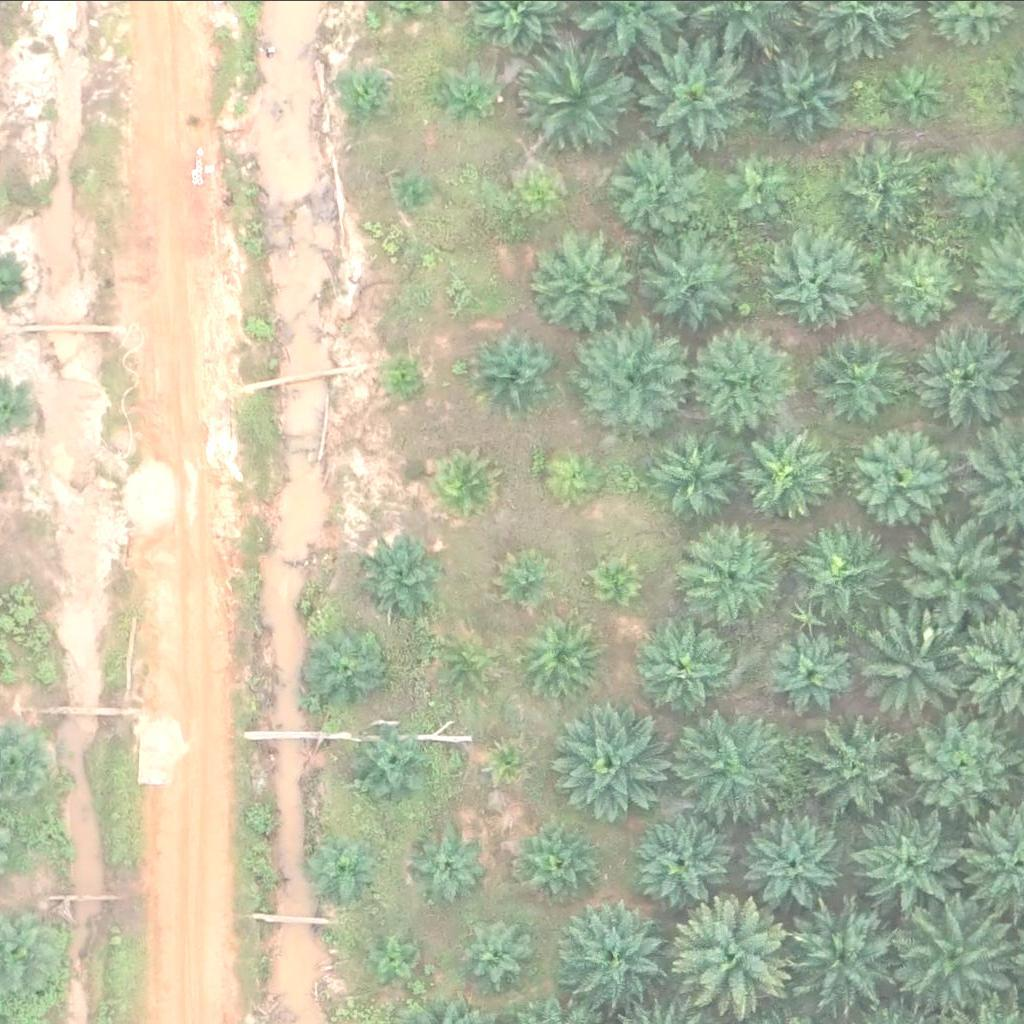Kelapa_Sawit: (550, 704, 664, 817), (855, 813, 969, 926), (675, 903, 789, 1016), (518, 45, 631, 158), (650, 40, 763, 153), (904, 522, 1017, 635), (573, 325, 687, 437), (905, 713, 1018, 825), (684, 705, 797, 817), (898, 906, 1011, 1018), (790, 901, 903, 1013), (558, 895, 671, 1007), (757, 47, 858, 147), (541, 230, 642, 330), (915, 329, 1016, 429), (698, 332, 799, 432), (847, 426, 948, 526), (867, 617, 968, 717), (631, 809, 732, 909), (836, 138, 936, 238), (611, 136, 711, 236), (648, 229, 748, 329), (768, 236, 868, 336), (736, 425, 836, 525), (793, 524, 893, 624), (685, 528, 785, 628), (633, 617, 733, 717), (801, 720, 901, 820), (746, 813, 846, 913), (470, 329, 558, 417), (817, 336, 905, 424), (651, 431, 739, 519), (347, 723, 435, 811), (770, 628, 858, 716), (514, 817, 602, 905), (879, 240, 967, 327), (303, 623, 391, 710), (518, 614, 606, 701), (371, 539, 447, 614), (413, 830, 489, 905), (718, 149, 793, 224), (310, 840, 373, 903), (884, 61, 947, 124), (431, 451, 494, 514), (465, 920, 528, 982), (437, 629, 500, 691), (550, 454, 601, 504), (340, 71, 390, 121), (443, 76, 493, 126), (593, 552, 643, 602), (501, 557, 551, 607), (370, 930, 420, 980), (401, 174, 439, 212), (385, 361, 423, 398), (520, 185, 557, 222), (486, 746, 523, 783), (448, 284, 474, 309)
